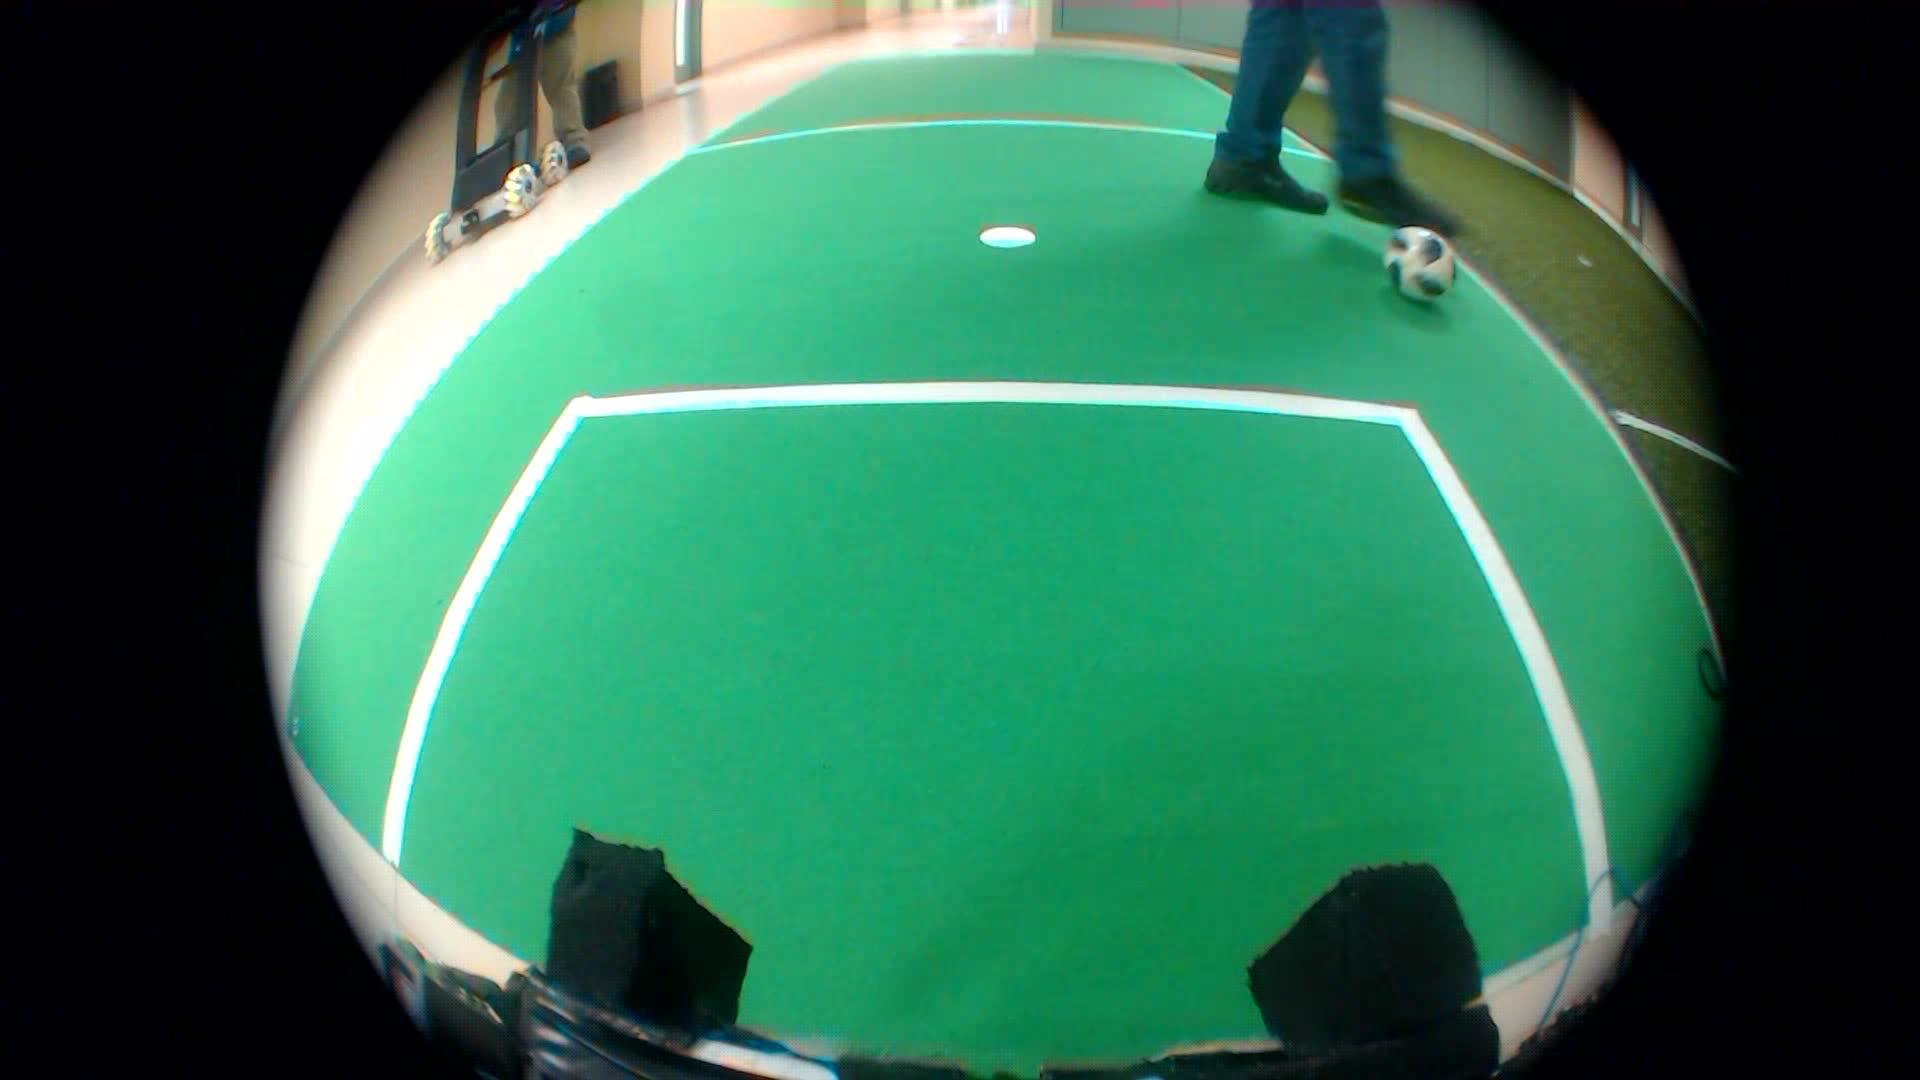ball: (1381, 222, 1455, 313)
